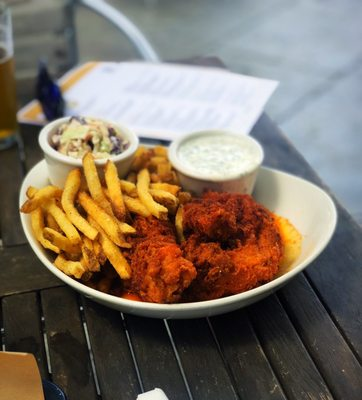sushi: (13, 148, 337, 321), (37, 115, 139, 186), (167, 129, 262, 197)
